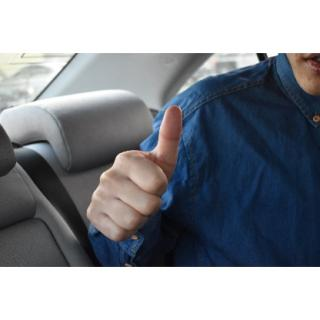ALIF: (84, 104, 186, 242)
